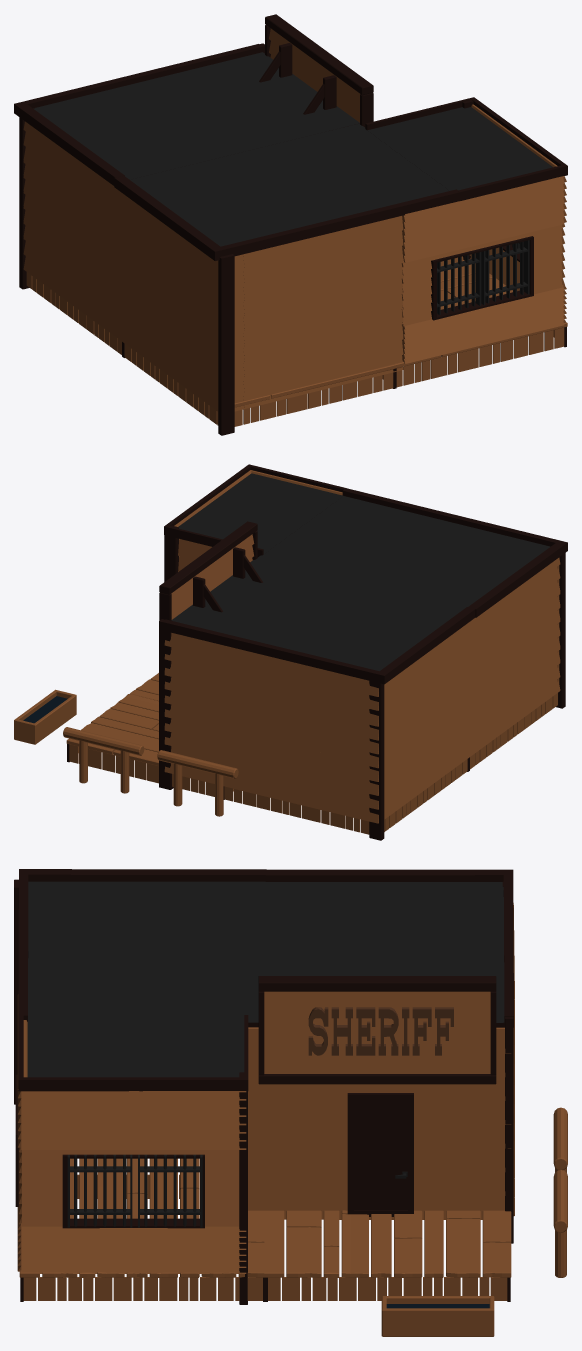
File: sheriff.obj
3 views of the same model, one above another, from view 1: azimuth 30°, elevation 25°; view 2: azimuth 150°, elevation 25°; view 3: azimuth 270°, elevation 25° (orthographic). The views are drawn at different scales.
Visible parts, largest first — view 1: Roof_B.023; view 2: Roof_B.023; view 3: Roof_B.023.
Boxes of the visible parts, x1=… form: Roof_B.023: x1=14, y1=14, x2=567, y2=435; Roof_B.023: x1=14, y1=464, x2=567, y2=840; Roof_B.023: x1=14, y1=869, x2=567, y2=1336.
Bounding box in the file's own units: 7.88 × 3.89 × 7.38.
